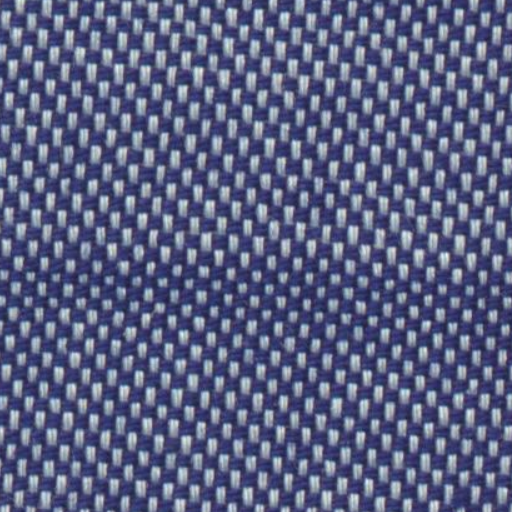TuoSha: (29, 234, 500, 386)
